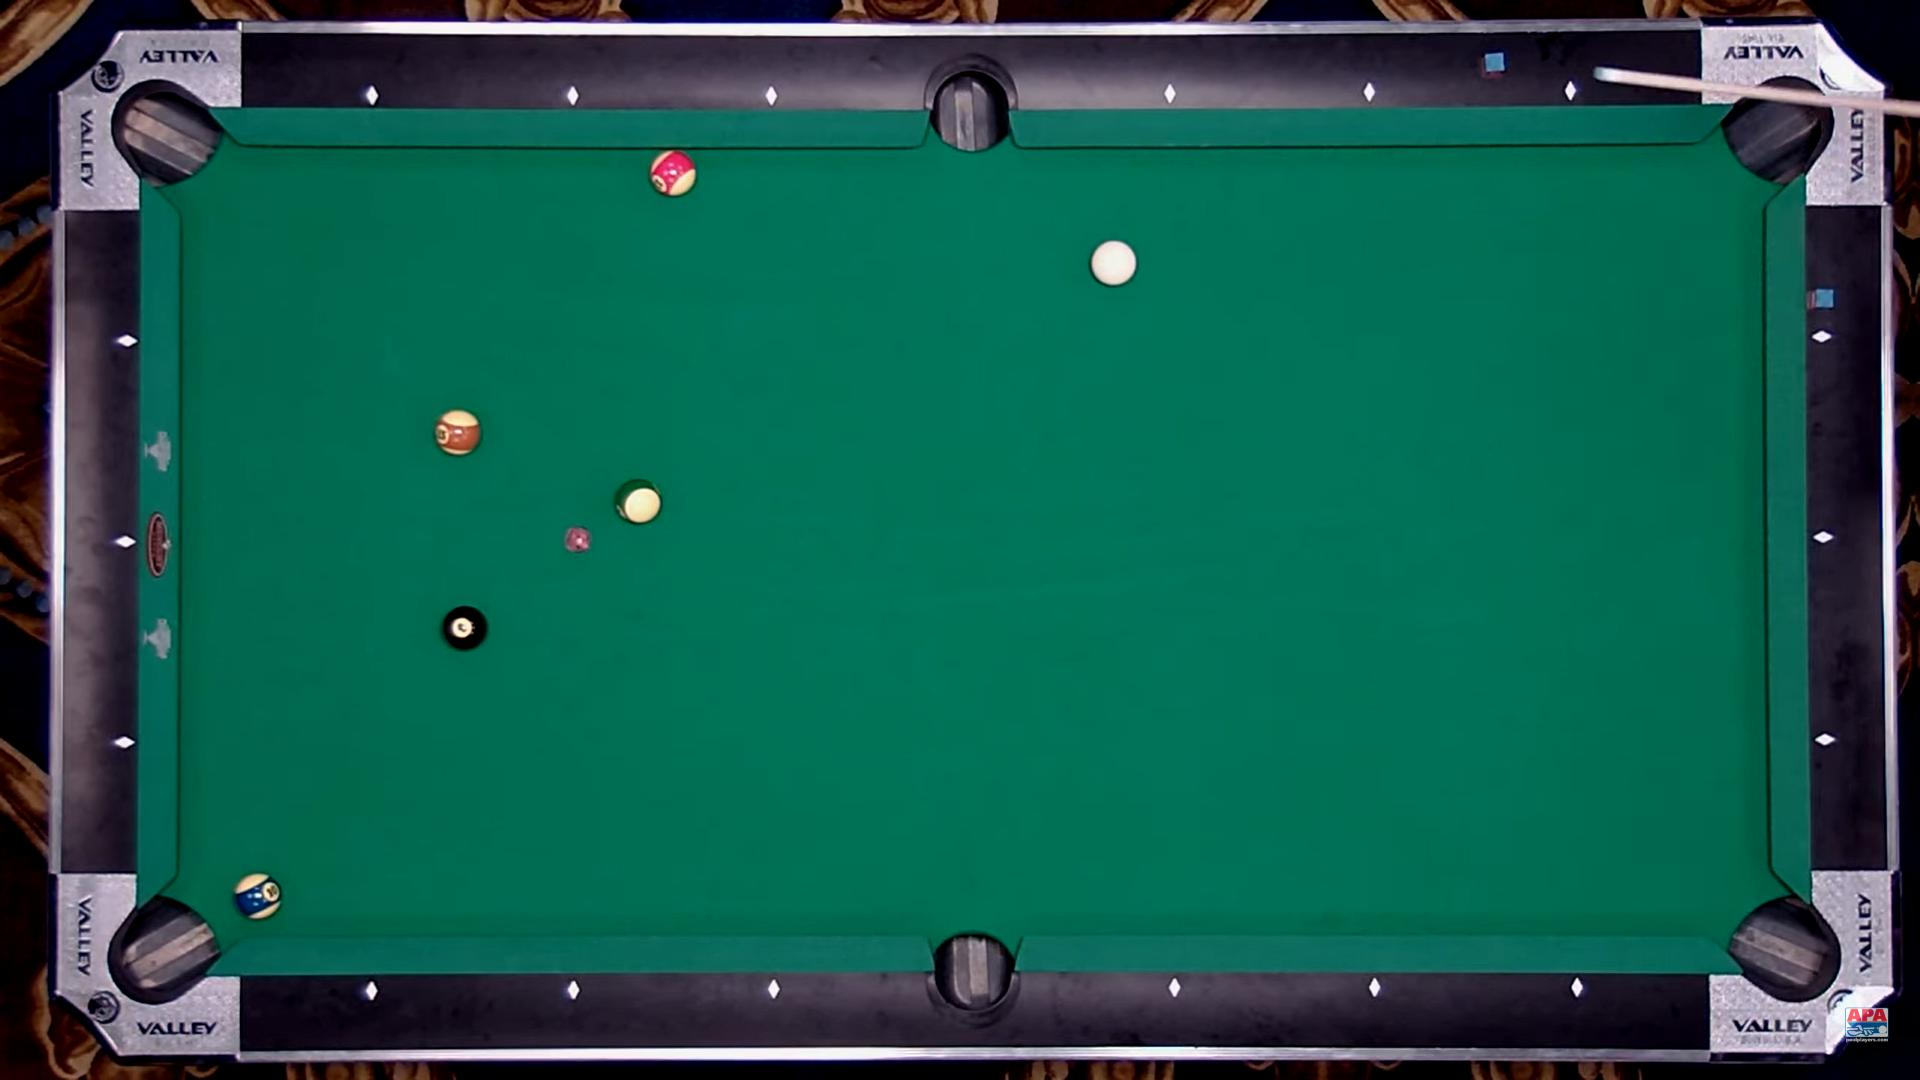Black: (442, 606, 488, 650)
Cue: (1090, 240, 1136, 286)
Dot: (565, 89, 580, 103), (1363, 86, 1378, 100), (565, 984, 580, 998), (118, 736, 132, 750), (118, 534, 132, 548), (119, 336, 133, 350), (766, 89, 780, 103), (1564, 84, 1578, 98), (1815, 330, 1829, 344), (1816, 530, 1830, 544), (1818, 733, 1832, 747), (1569, 982, 1583, 996), (1368, 982, 1382, 996), (1166, 982, 1180, 996), (768, 982, 782, 996), (364, 984, 378, 998), (366, 88, 379, 102), (1162, 88, 1176, 101)
Striped: (234, 872, 282, 921), (649, 150, 696, 197), (614, 478, 662, 524), (434, 410, 480, 456)
